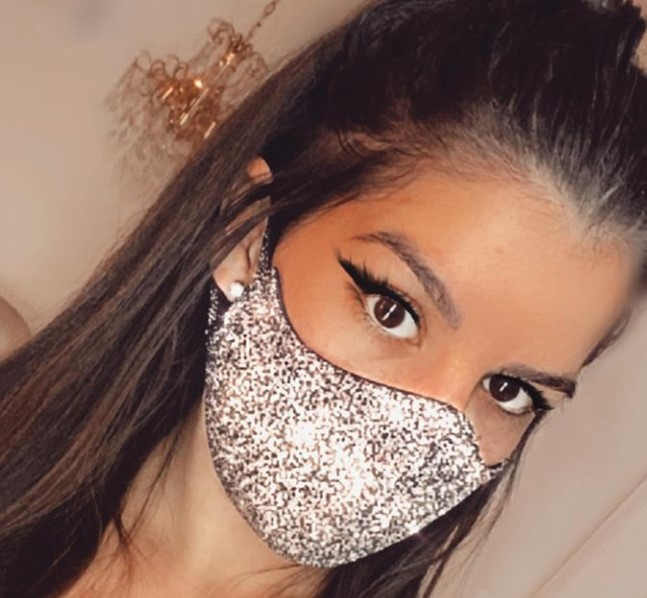face_with_mask: (209, 24, 639, 580)
